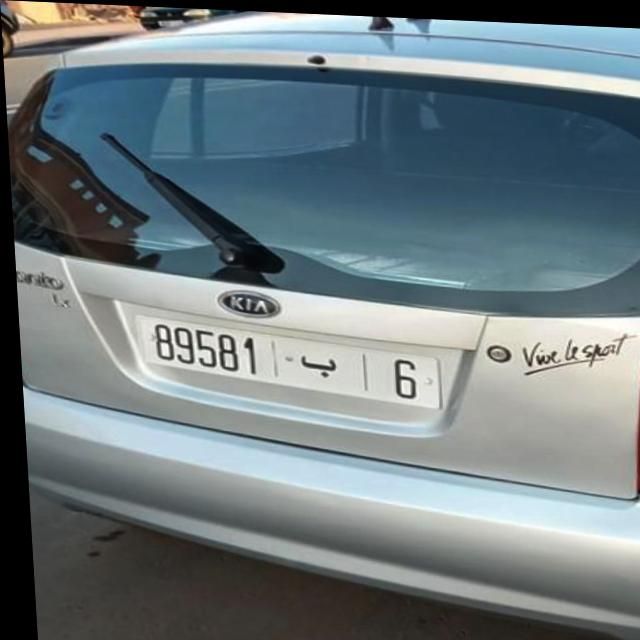License-Plate: (133, 315, 434, 404)
